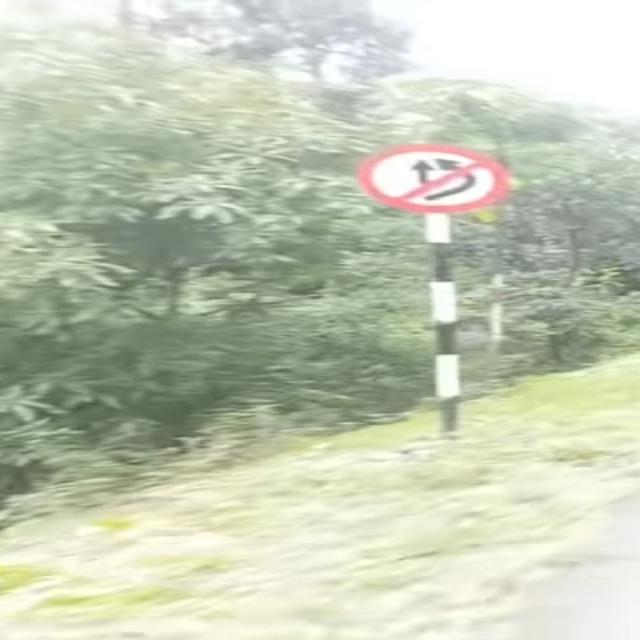overtaking prohibited: (354, 141, 513, 214)
